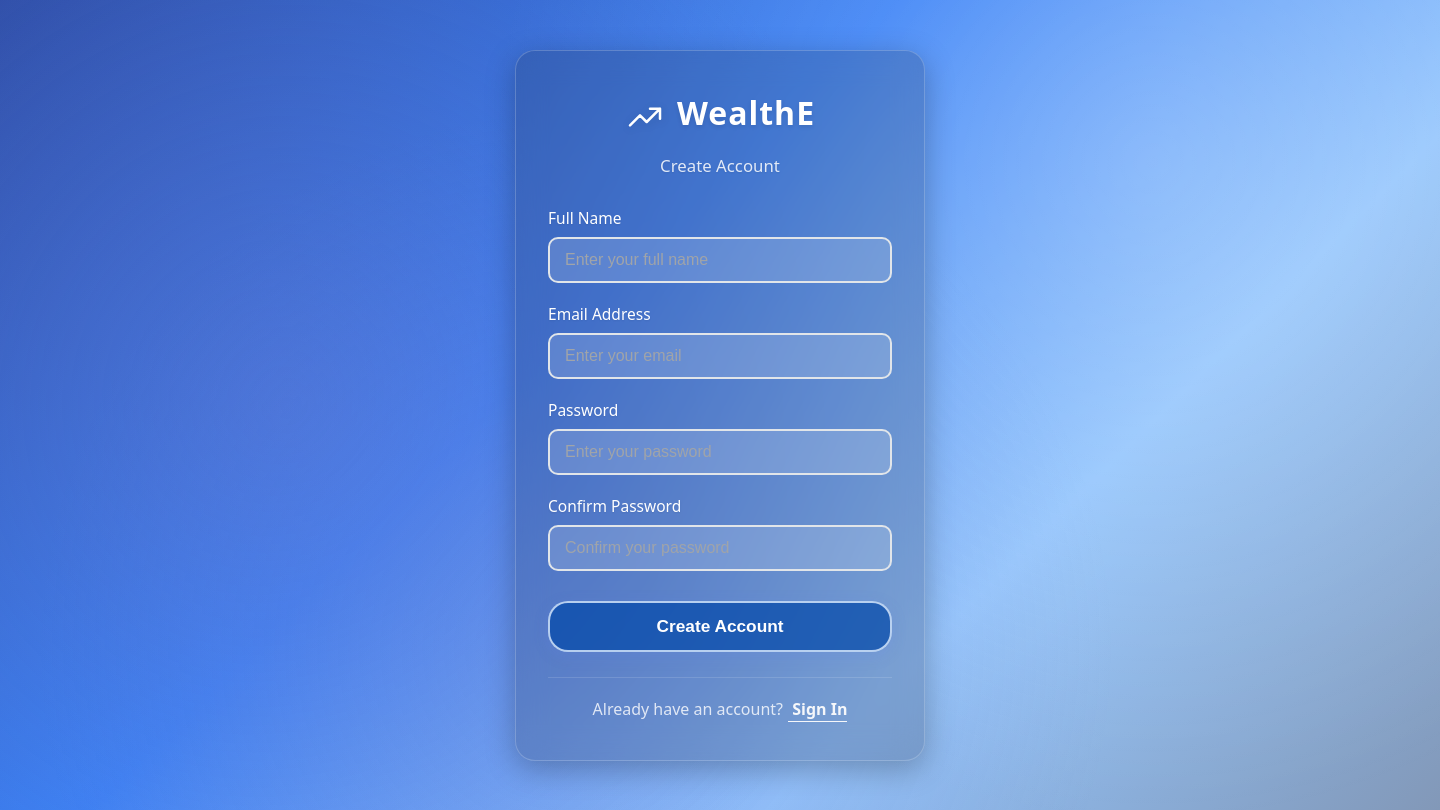
Test: Register Component › shows validation error for password mismatch
The width and height of the screenshot is (1440, 810).
Type "password123" into the password field labelled "Password".
click(720, 452); type("password123")  # box x1=548 y1=428 x2=892 y2=474
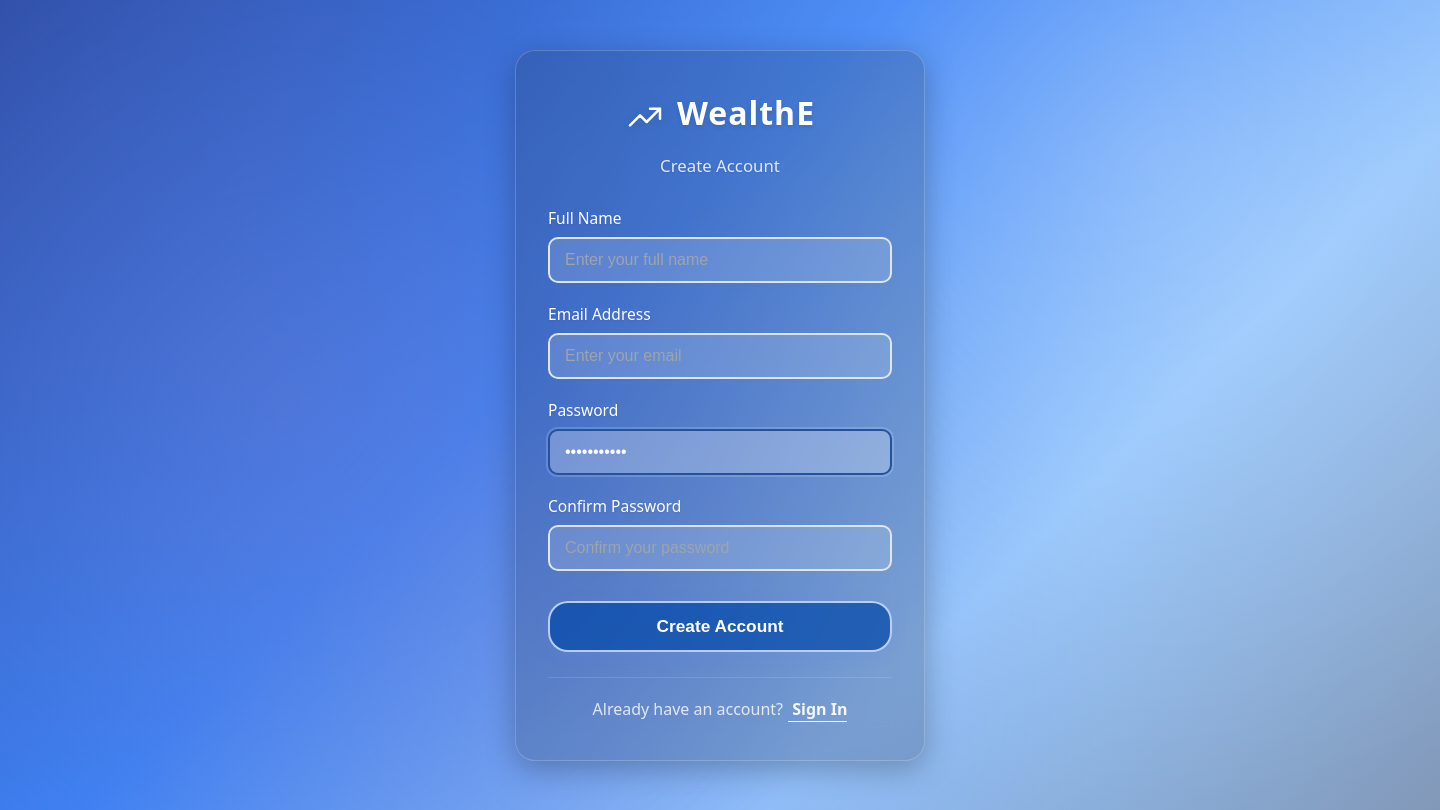
Type "differentpassword" into the password field labelled "Confirm Password".
click(720, 548); type("differentpassword")  # box x1=548 y1=524 x2=892 y2=570
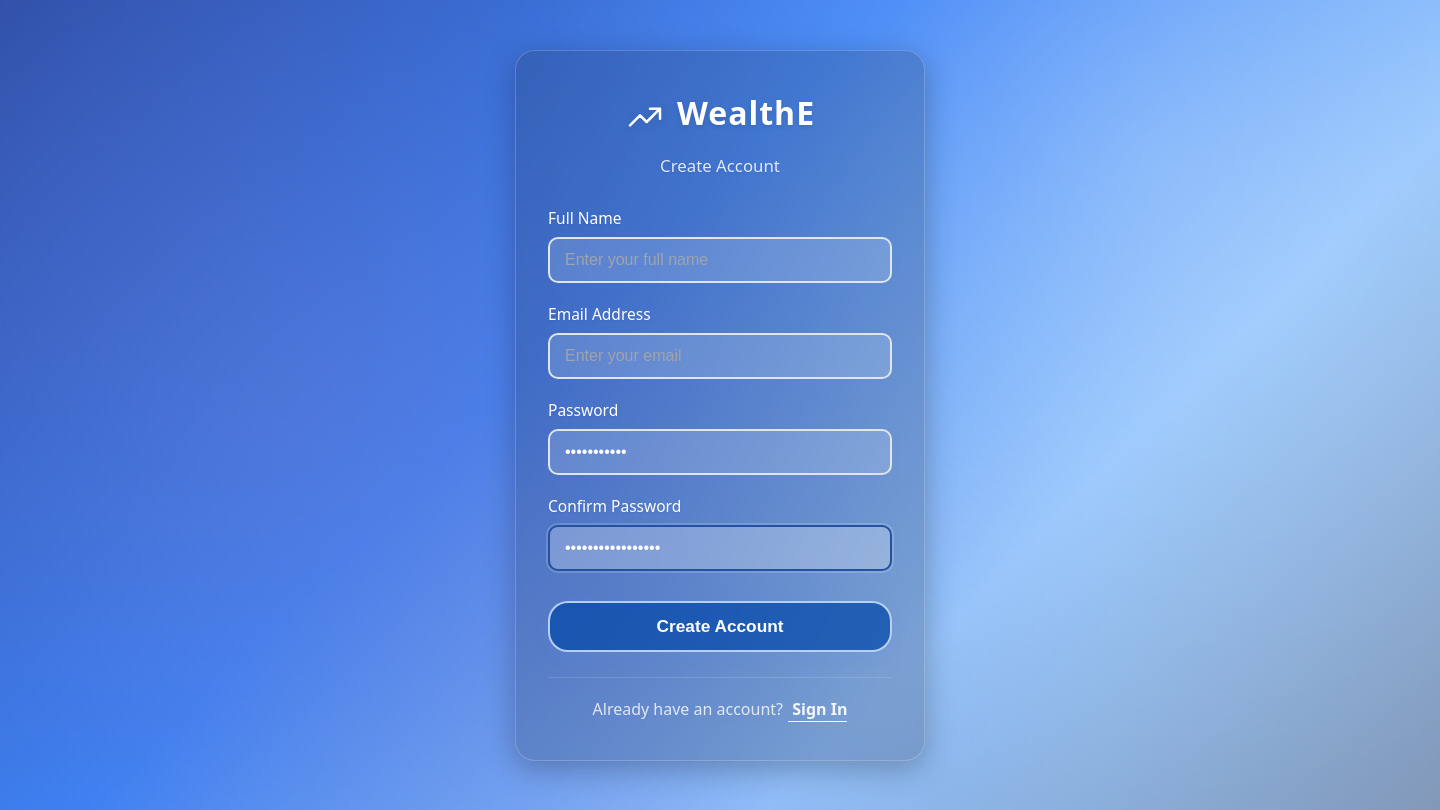
Click the button "Create Account".
click(720, 626)  # box x1=548 y1=600 x2=892 y2=652
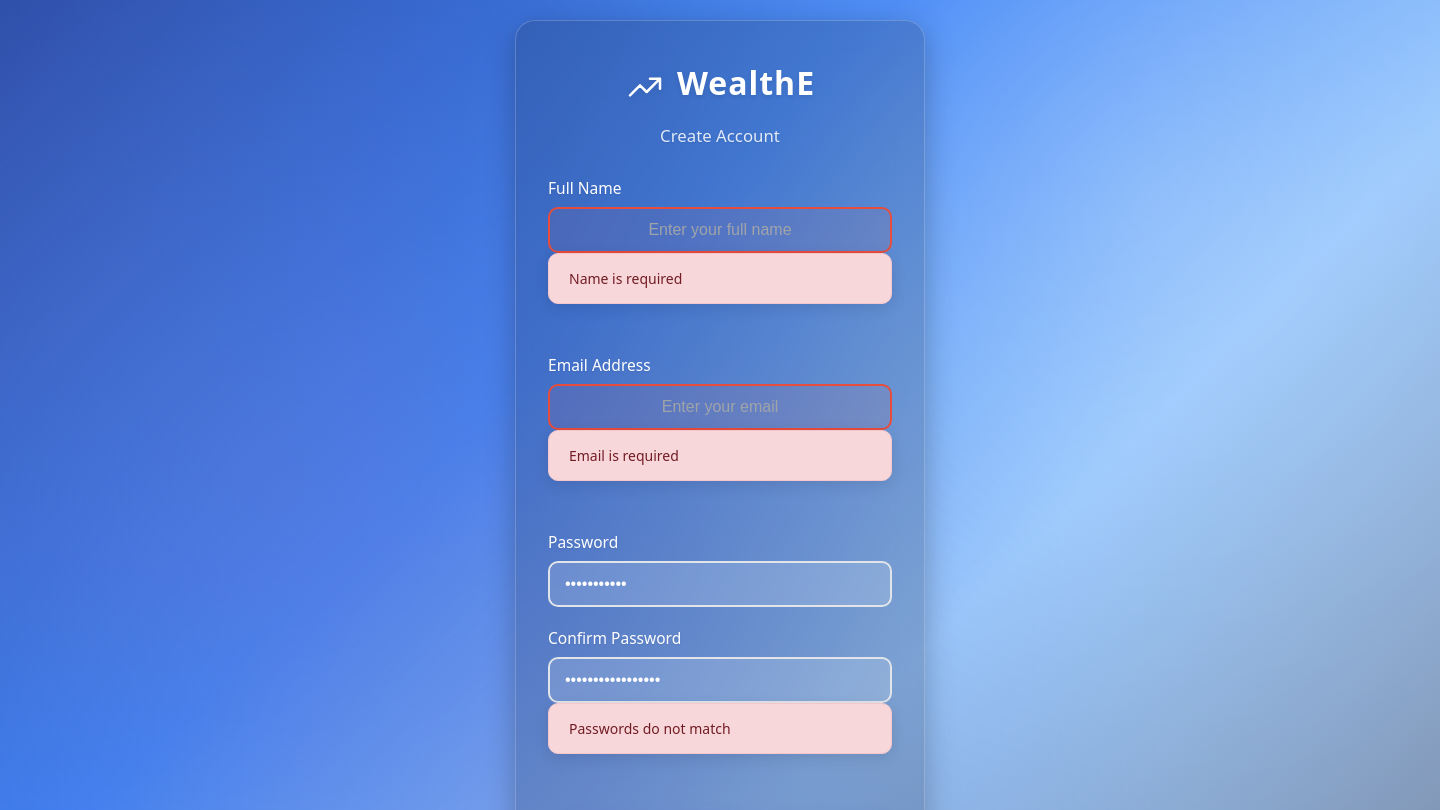
Result: the text "Passwords do not match" is shown at x1=548 y1=703 x2=892 y2=754
